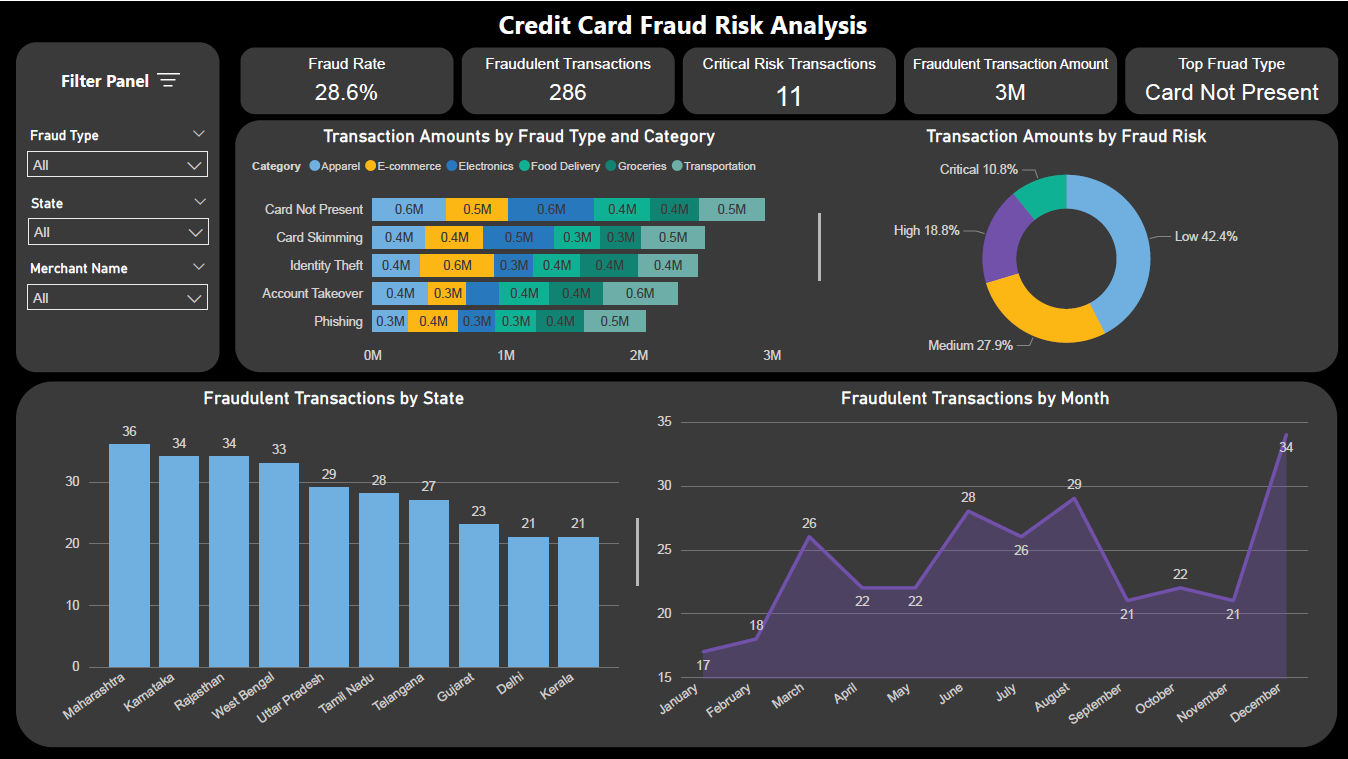

Layout of this report page (visuals, bound fields, positions):
{"tool":"powerbi","page":{"name":"Page 1filter","canvas":[1280,720],"ordinal":0},"visuals":[{"type":"shape","box":[15.9,360.7,1254,347],"z":0},{"type":"shape","box":[223.6,112.5,1047.4,239.5],"z":1000},{"type":"shape","box":[15.9,39,193.3,313.1],"z":2000},{"type":"barChart","title":"Transaction Amounts by Fraud Type and Category","fields":{"Series":["Credit Card Fraud Risk Analysis.Transaction Category"],"Category":["Credit Card Fraud Risk Analysis.Fraud Type"],"Y":["Credit Card Fraud Risk Analysis.Total Transaction Amount"]},"box":[235.2,112.5,516.5,239.5],"z":3000},{"type":"donutChart","title":"Transaction Amounts by Fraud Risk","fields":{"Category":["Credit Card Fraud Risk Analysis.Fraud Risk"],"Y":["Credit Card Fraud Risk Analysis.Total Transaction Amount"]},"box":[779.1,112.5,467.5,239.5],"z":4000},{"type":"columnChart","title":"Fraudulent Transactions by State","fields":{"Category":["Credit Card Fraud Risk Analysis.State"],"Y":["Credit Card Fraud Risk Analysis.Fraudulent Transaction"]},"box":[41.8,360.7,551.1,347.7],"z":5000},{"type":"lineChart","title":"Fraudulent Transactions by Month","fields":{"Y":["Credit Card Fraud Risk Analysis.Fraudulent Transaction"],"Category":["Credit Card Fraud Risk Analysis.Transaction Date.Variation.Date Hierarchy.Month"]},"box":[606,360.7,640.6,347.7],"z":6000},{"type":"slicer","fields":{"Values":["Credit Card Fraud Risk Analysis.Fraud Type"]},"box":[15.9,115.4,191.9,63.5],"z":7000},{"type":"slicer","fields":{"Values":["Credit Card Fraud Risk Analysis.State"]},"box":[17.3,178.9,191.9,62],"z":8000},{"type":"slicer","fields":{"Values":["Credit Card Fraud Risk Analysis.Merchant Name"]},"box":[15.9,240.9,191.9,66.4],"z":9000},{"type":"cardVisual","fields":{"Data":["Credit Card Fraud Risk Analysis.Fraud Rate %","Credit Card Fraud Risk Analysis.Fraudulent Transaction","Credit Card Fraud Risk Analysis.Critical Risk Transaction","Credit Card Fraud Risk Analysis.Fraudulent Transaction Amount","Credit Card Fraud Risk Analysis.Top Fruad Type"]},"box":[223.6,39,1056.1,73.6],"z":10000},{"type":"textbox","box":[333.3,0,631.9,59.2],"z":11000},{"type":"textbox","box":[15.9,59.2,160.1,33.2],"z":12000},{"type":"image","box":[144.3,60.6,31.7,31.7],"z":13000},{"type":"shape","box":[712.7,200.5,131.3,64.9],"z":13001},{"type":"shape","box":[539.6,490.5,131.3,64.9],"z":13002}]}

Visuals, with their boxes in screenshot pixels (x1, y1, x2, y2), scaled from the page's 1280x720 canvas onto the 1348x759 screenshot:
shape: l=17, t=380, r=1337, b=746
shape: l=235, t=119, r=1339, b=371
shape: l=17, t=41, r=220, b=371
"Transaction Amounts by Fraud Type and Category" barChart: l=248, t=119, r=792, b=371
"Transaction Amounts by Fraud Risk" donutChart: l=820, t=119, r=1313, b=371
"Fraudulent Transactions by State" columnChart: l=44, t=380, r=624, b=747
"Fraudulent Transactions by Month" lineChart: l=638, t=380, r=1313, b=747
slicer - Credit Card Fraud Risk Analysis.Fraud Type: l=17, t=122, r=219, b=189
slicer - Credit Card Fraud Risk Analysis.State: l=18, t=189, r=220, b=254
slicer - Credit Card Fraud Risk Analysis.Merchant Name: l=17, t=254, r=219, b=324
cardVisual - Credit Card Fraud Risk Analysis.Fraud Rate % x Credit Card Fraud Risk Analysis.Fraudulent Transaction: l=235, t=41, r=1347, b=119
textbox: l=351, t=0, r=1016, b=62
textbox: l=17, t=62, r=185, b=97
image: l=152, t=64, r=185, b=97
shape: l=751, t=211, r=889, b=280
shape: l=568, t=517, r=707, b=585
